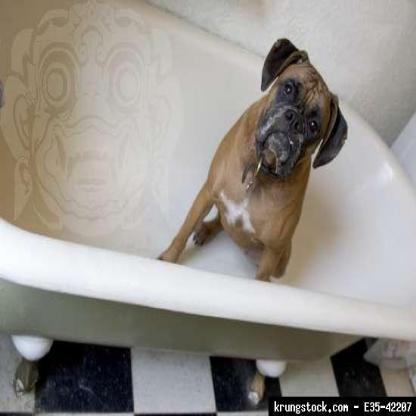boxer: (158, 34, 348, 282)
